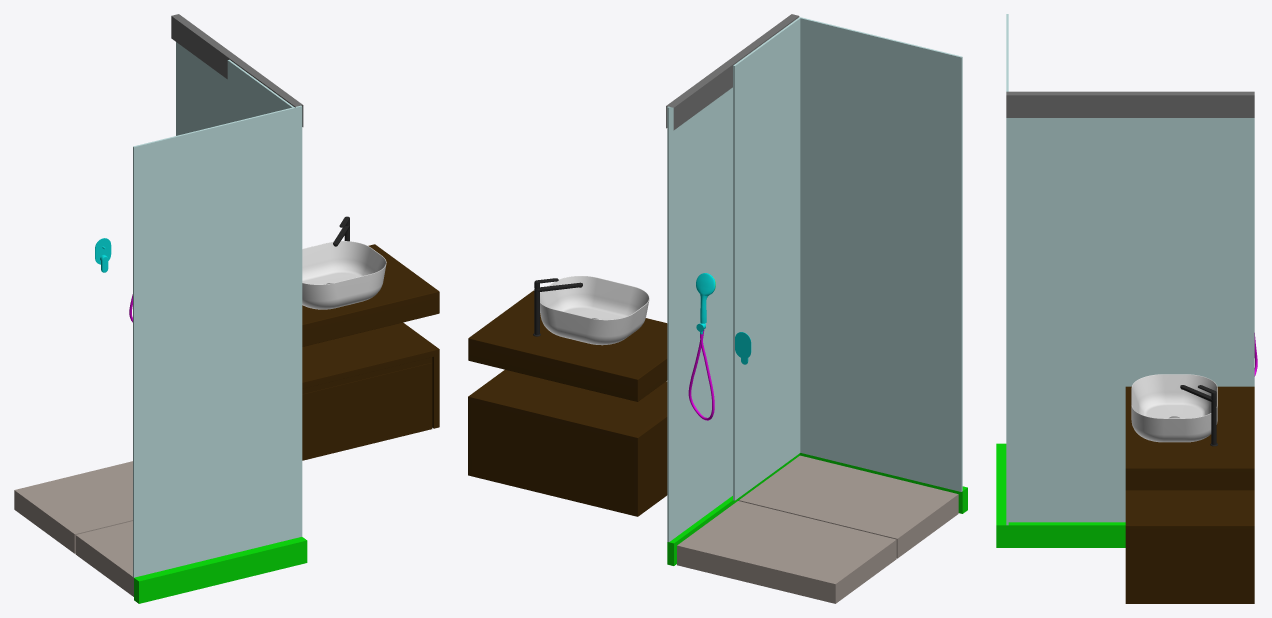
Rendered from Bath03_v01.fbx.
3 views of the same model, side by side, from view 1: azimuth 30°, elevation 25°; view 2: azimuth 150°, elevation 25°; view 3: azimuth 270°, elevation 25° (orthographic).
Visible parts, largest first — view 1: Window2, CommodeLower, ShowerCabinetFloor1, CommodeUpper, Basin, polySurface1, Window3, ShowerCabinetFloor2, UpperFrame, Window1; view 2: Window2, Window1, Window3, CommodeLower, ShowerCabinetFloor1, CommodeUpper, ShowerCabinetFloor2, Basin, UpperFrame, polySurface1; view 3: Window1, Window3, CommodeLower, CommodeUpper, UpperFrame, Basin, polySurface1, Window2, Tap1.
Boxes of the visible parts, left/top/right/bottom form: Window2: left=133, top=105, right=302, bottom=577; CommodeLower: left=302, top=322, right=439, bottom=460; ShowerCabinetFloor1: left=14, top=461, right=132, bottom=553; CommodeUpper: left=302, top=244, right=439, bottom=346; Basin: left=302, top=241, right=386, bottom=309; polySurface1: left=134, top=537, right=307, bottom=603; Window3: left=176, top=42, right=227, bottom=135; ShowerCabinetFloor2: left=75, top=521, right=133, bottom=596; UpperFrame: left=171, top=14, right=303, bottom=126; Window1: left=227, top=59, right=293, bottom=123; Window2: left=799, top=17, right=962, bottom=491; Window1: left=733, top=17, right=800, bottom=500; Window3: left=667, top=87, right=732, bottom=541; CommodeLower: left=468, top=369, right=667, bottom=516; ShowerCabinetFloor1: left=677, top=501, right=896, bottom=603; CommodeUpper: left=468, top=290, right=667, bottom=401; ShowerCabinetFloor2: left=739, top=455, right=958, bottom=558; Basin: left=540, top=276, right=649, bottom=345; UpperFrame: left=666, top=14, right=799, bottom=130; polySurface1: left=667, top=453, right=967, bottom=565; Window1: left=1008, top=118, right=1125, bottom=522; Window3: left=1125, top=118, right=1254, bottom=386; CommodeLower: left=1125, top=490, right=1254, bottom=603; CommodeUpper: left=1125, top=386, right=1254, bottom=490; UpperFrame: left=1006, top=91, right=1254, bottom=117; Basin: left=1131, top=374, right=1217, bottom=442; polySurface1: left=996, top=443, right=1125, bottom=547; Window2: left=1006, top=14, right=1008, bottom=525; Tap1: left=1180, top=385, right=1216, bottom=444.
Size of the model in its own units: 196 by 232 by 121.
